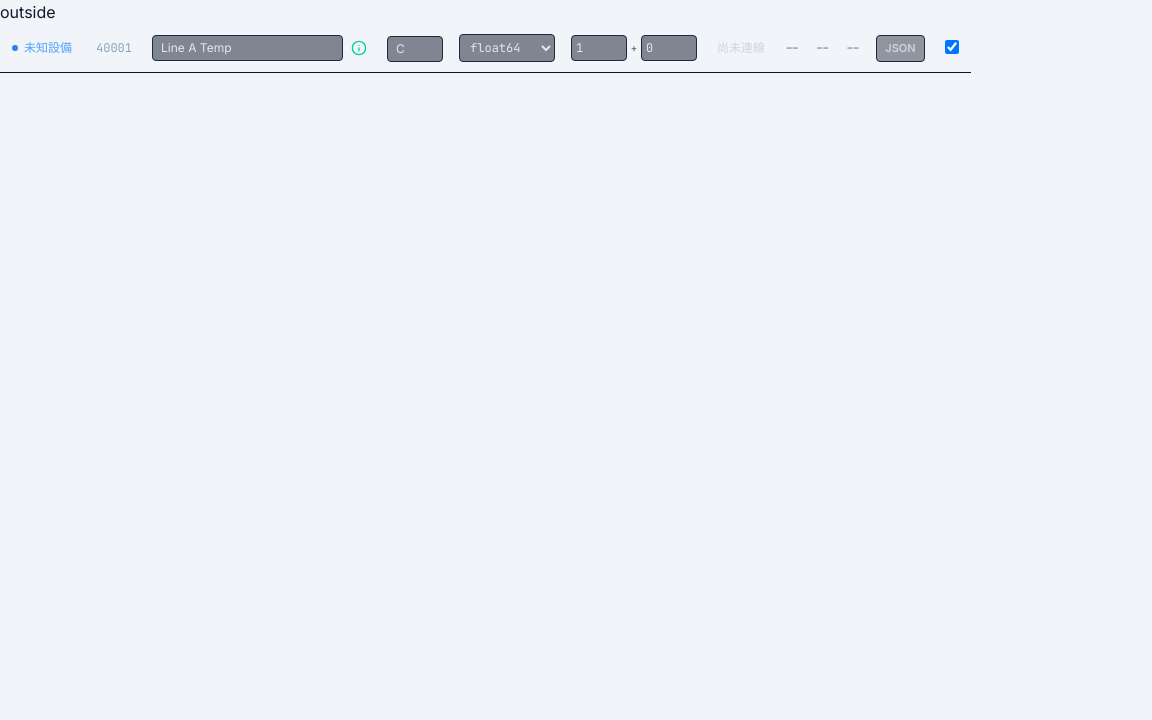
inline mapping save info (advanced=true) › keeps saved copy hidden until hover, with a green info button beside the name
Expected: the text "已儲存" is not shown
Hover over the button named "已儲存": (359, 48) [347, 36, 371, 60]
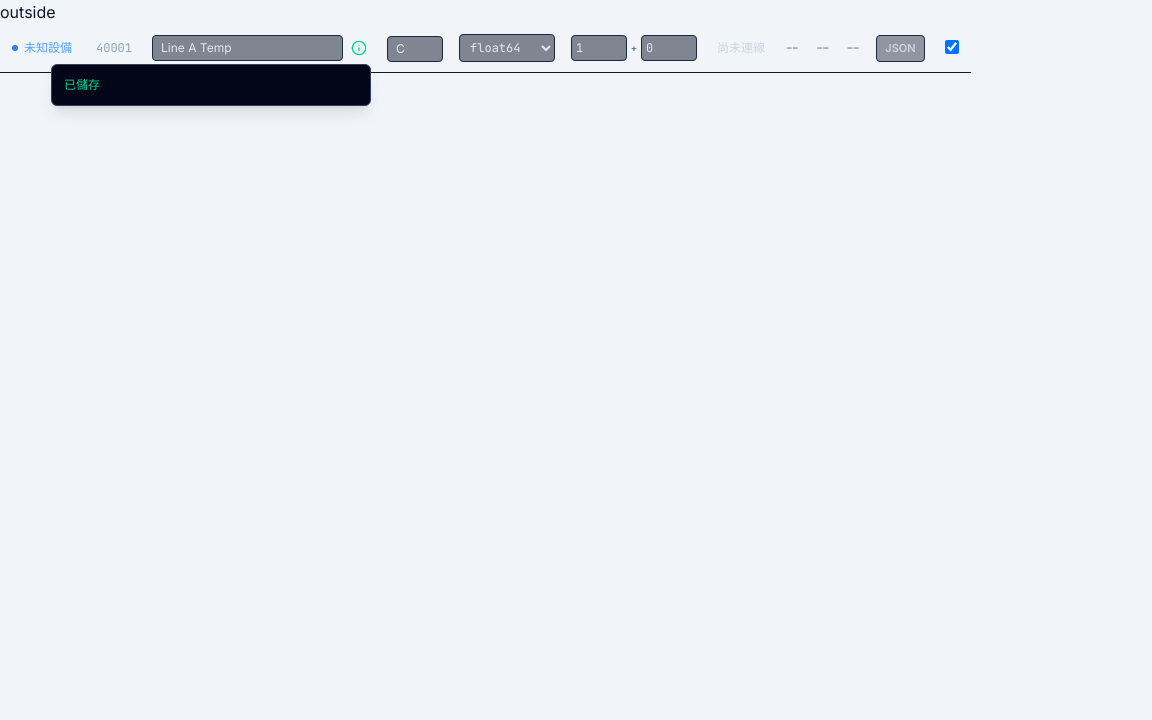
Now the dialog reads "已儲存", box [64, 77, 100, 92]
Press Escape in the button named "已儲存", box [347, 36, 371, 60]
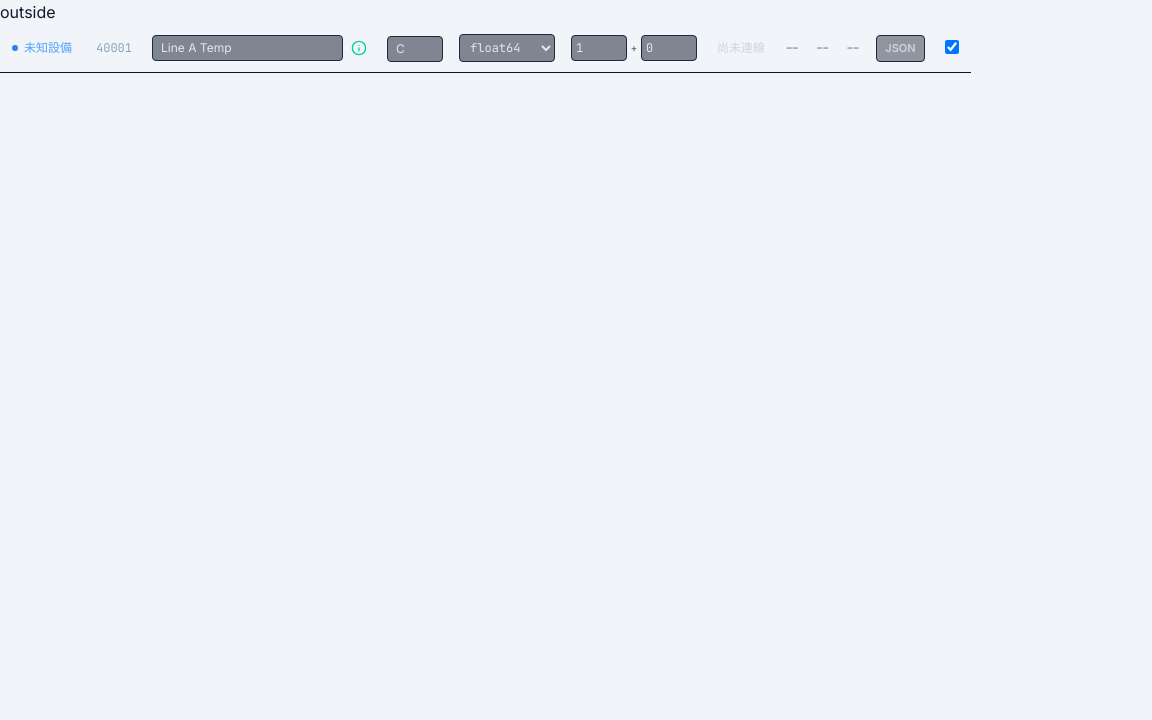
Now the dialog is gone
